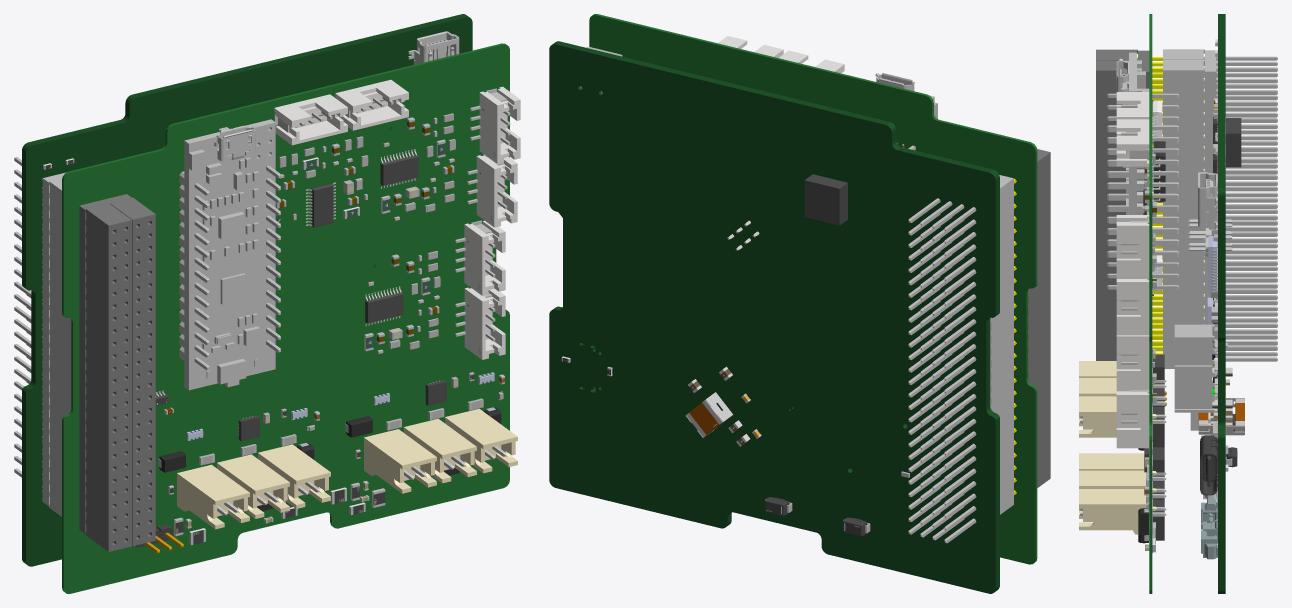
Rendered from EPS_THC_Assembly.glb.
The picture shows the model from 3 angles, left to right: view 1: azimuth 30°, elevation 25°; view 2: azimuth 150°, elevation 25°; view 3: azimuth 270°, elevation 25°; orthographic projection. The views are drawn at different scales.
Parts seen in each view (by area): view 1: thc_1373, eps_724, thc_310, thc_1297, thc_1293, eps_2, thc_632, thc_696, eps_0, thc_1294, thc_1276, thc_1261 (+16 smaller); view 2: eps_724, thc_1373, eps_1, eps_4, eps_2, thc_1297, eps_535; view 3: eps_4, eps_5, thc_1293, eps_724, eps_1, eps_575, thc_703, thc_1373, thc_643, thc_621, thc_658, thc_4 (+29 smaller).
Part boxes in pixels (x1,y1,x2,y2): thc_1373: [62, 43, 509, 593]; eps_724: [22, 14, 472, 566]; thc_310: [184, 119, 275, 390]; thc_1297: [85, 203, 131, 551]; thc_1293: [109, 197, 155, 546]; eps_2: [49, 179, 71, 516]; thc_632: [177, 464, 249, 529]; thc_696: [364, 429, 436, 493]; eps_0: [42, 172, 66, 506]; thc_1294: [79, 200, 107, 533]; thc_1276: [274, 94, 347, 145]; thc_1261: [335, 79, 408, 130]; eps_724: [549, 41, 999, 593]; thc_1373: [589, 14, 1037, 564]; eps_1: [932, 204, 976, 543]; eps_4: [908, 198, 952, 537]; eps_2: [991, 175, 1013, 514]; thc_1297: [1028, 149, 1050, 487]; eps_535: [804, 174, 847, 225]; eps_4: [1203, 67, 1277, 361]; eps_5: [1163, 60, 1204, 368]; thc_1293: [1096, 60, 1128, 360]; eps_724: [1218, 14, 1225, 593]; eps_1: [1203, 56, 1277, 350]; eps_575: [1174, 324, 1217, 412]; thc_703: [1079, 489, 1156, 534]; thc_1373: [1149, 14, 1152, 593]; thc_643: [1116, 215, 1149, 278]; thc_621: [1116, 389, 1149, 448]; thc_658: [1116, 279, 1149, 335]; thc_4: [1116, 335, 1149, 389].
Bounding box in the file's own units: 95.25 × 90.42 × 40.18.
